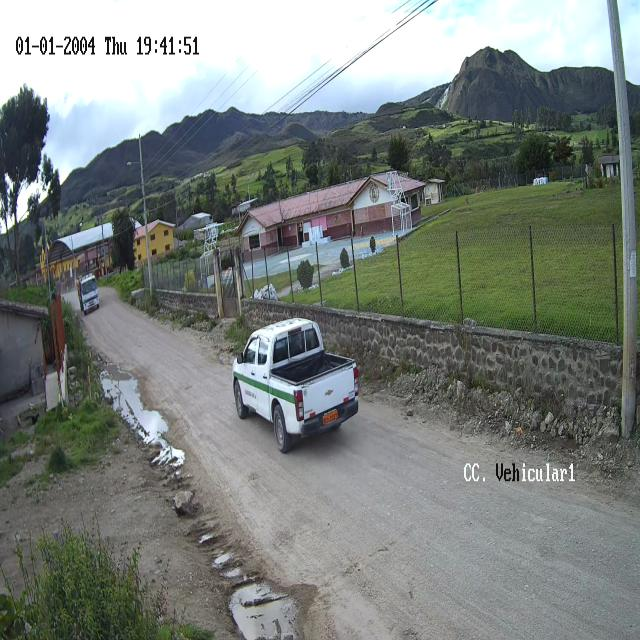CMT: (232, 320, 360, 454)
